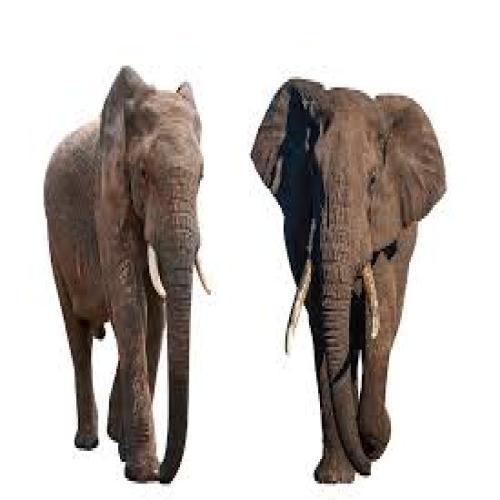asian_elephant-endangered: (250, 79, 446, 484), (48, 68, 210, 479)
